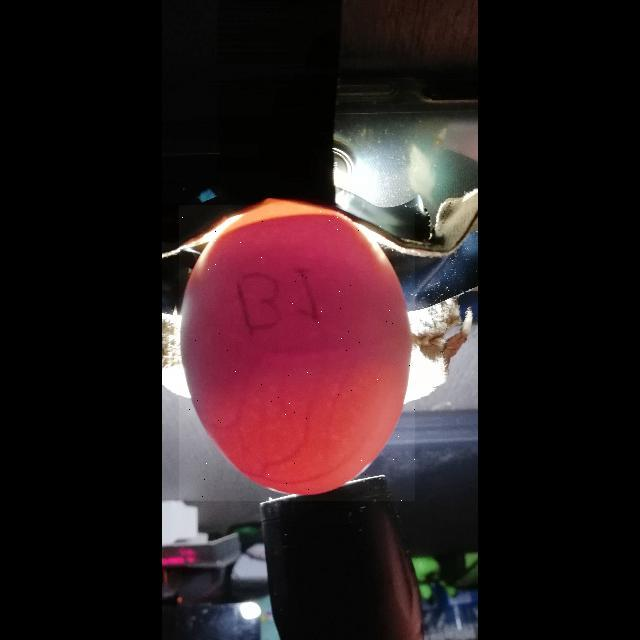Fertile: (179, 205, 415, 501)
